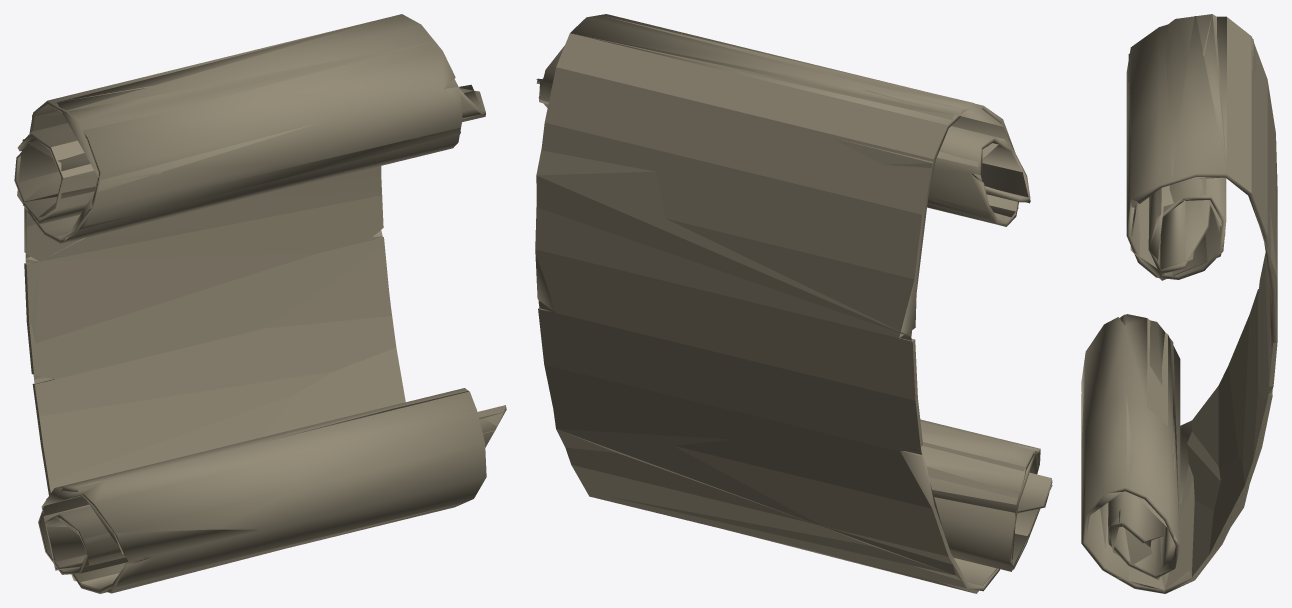
The model's file is Parchment.fbx.
3 views of the same model, side by side, from view 1: azimuth 30°, elevation 25°; view 2: azimuth 150°, elevation 25°; view 3: azimuth 270°, elevation 25° (orthographic). The views are drawn at different scales.
Visible parts, largest first — view 1: High_Parchment, Low_Parchment; view 2: High_Parchment, Low_Parchment; view 3: High_Parchment, Low_Parchment.
Part boxes in pixels (x1,y1,x2,y2): High_Parchment: (14,14,506,593); Low_Parchment: (17,15,505,593); High_Parchment: (535,14,1052,591); Low_Parchment: (536,17,1052,593); High_Parchment: (1081,16,1277,593); Low_Parchment: (1081,14,1277,593).
Size of the model in its own units: 92.2 by 90.33 by 37.94.
